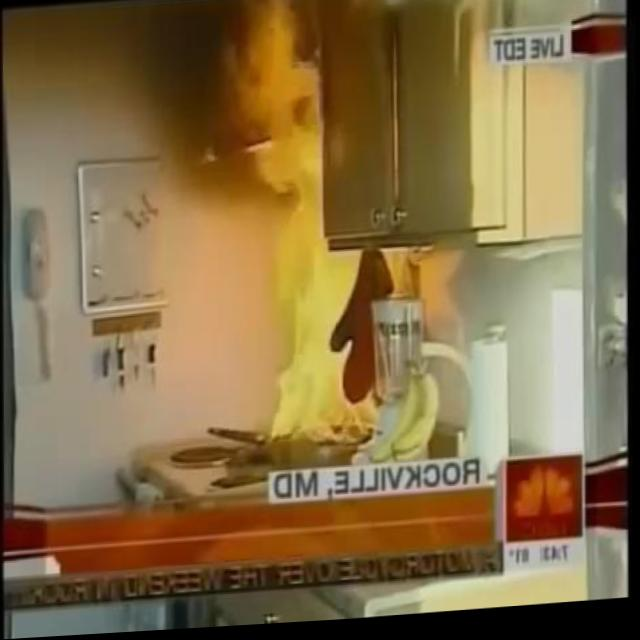fire: (264, 222, 385, 451)
